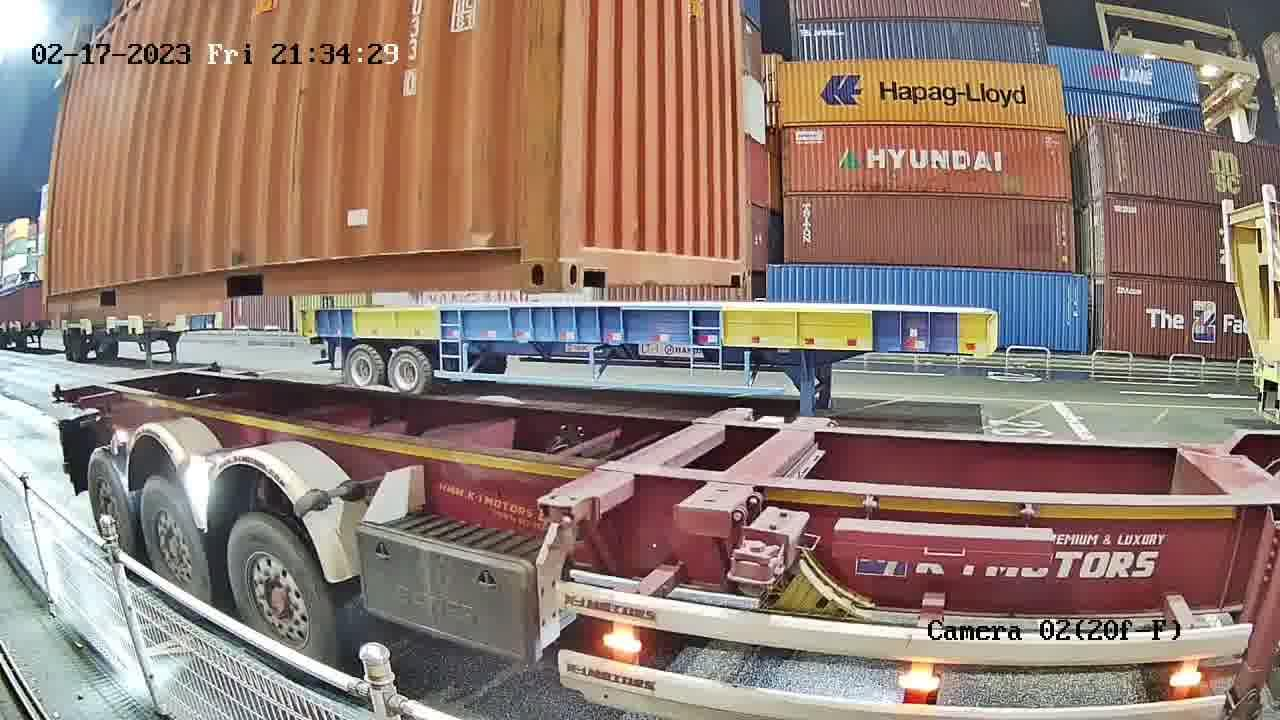Chassis: (541, 408, 753, 523)
Cone: (534, 497, 584, 557)
Hole_L: (556, 225, 623, 290)
Hole_R: (483, 219, 557, 292), (726, 247, 750, 288)
Tire: (229, 518, 331, 672), (141, 482, 209, 610), (88, 454, 133, 557)
